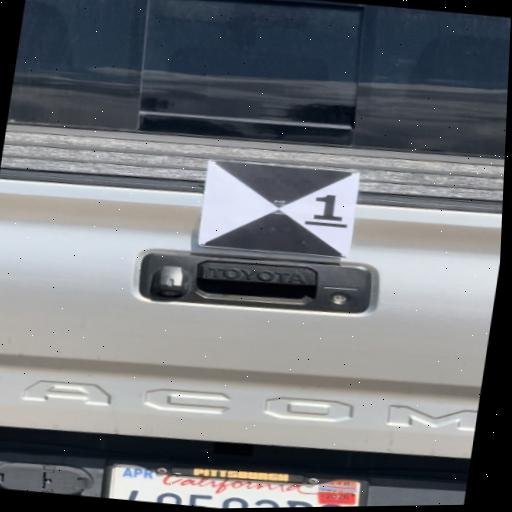target1: (197, 159, 360, 259)
